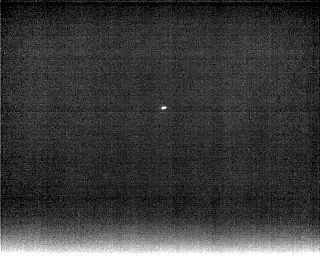BIRD: (159, 104, 169, 112)
